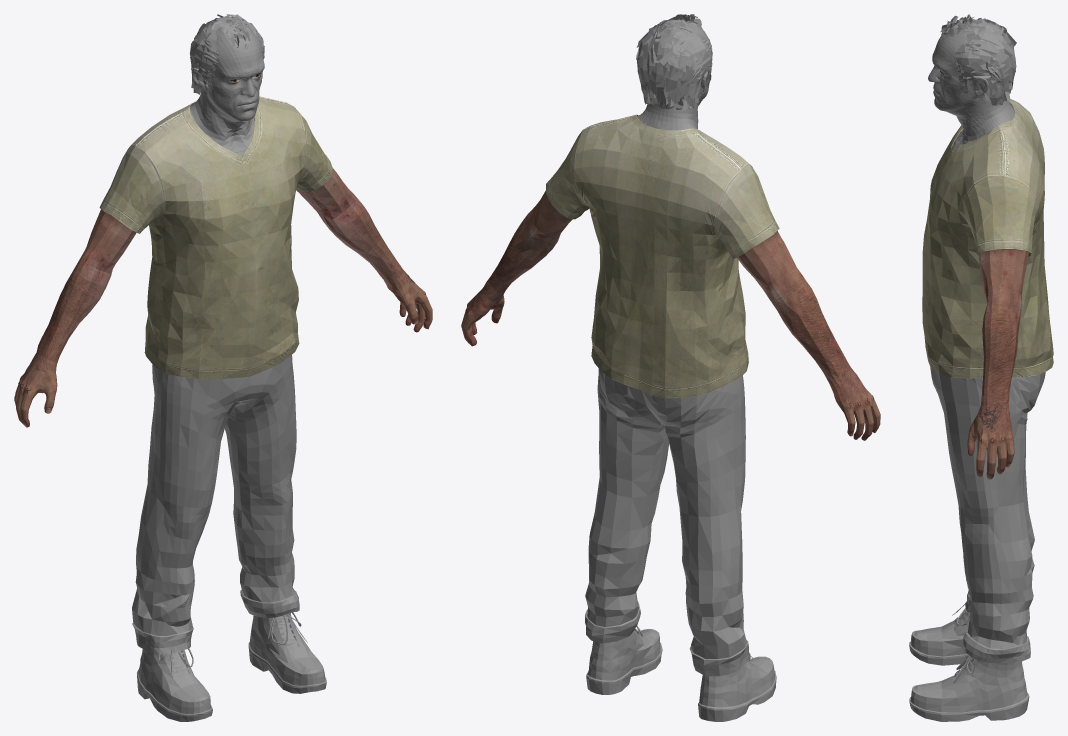
The model's file is trevor.obj.
3 renders of one model, left to right at view 1: azimuth 30°, elevation 25°; view 2: azimuth 150°, elevation 25°; view 3: azimuth 270°, elevation 25°, orthographic.
Parts seen in each view (by area): view 1: uppr_000_u_0_0_0, lowr_000_u_0_0_0, feet_010_u_0_0_0, head_000_r_0_0_0, hand_000_r_0_0_0, hair_003_u_0_0_0; view 2: uppr_000_u_0_0_0, lowr_000_u_0_0_0, feet_010_u_0_0_0, hair_003_u_0_0_0, hand_000_r_0_0_0, head_000_r_0_0_0, hair_003_u_0_0_1; view 3: uppr_000_u_0_0_0, lowr_000_u_0_0_0, feet_010_u_0_0_0, head_000_r_0_0_0, hair_003_u_0_0_0, hand_000_r_0_0_0, hair_003_u_0_0_1.
Part boxes in pixels (x1=…): uppr_000_u_0_0_0: x1=38, y1=96, x2=399, y2=379; lowr_000_u_0_0_0: x1=132, y1=355, x2=299, y2=654; feet_010_u_0_0_0: x1=137, y1=612, x2=326, y2=721; head_000_r_0_0_0: x1=190, y1=25, x2=264, y2=155; hand_000_r_0_0_0: x1=14, y1=265, x2=432, y2=427; hair_003_u_0_0_0: x1=189, y1=14, x2=264, y2=94; uppr_000_u_0_0_0: x1=485, y1=114, x2=847, y2=398; lowr_000_u_0_0_0: x1=585, y1=368, x2=750, y2=676; feet_010_u_0_0_0: x1=586, y1=625, x2=776, y2=721; hair_003_u_0_0_0: x1=636, y1=14, x2=712, y2=110; hand_000_r_0_0_0: x1=461, y1=282, x2=880, y2=440; head_000_r_0_0_0: x1=637, y1=22, x2=712, y2=130; hair_003_u_0_0_1: x1=639, y1=20, x2=712, y2=107; uppr_000_u_0_0_0: x1=922, y1=99, x2=1053, y2=399; lowr_000_u_0_0_0: x1=930, y1=367, x2=1045, y2=662; feet_010_u_0_0_0: x1=909, y1=603, x2=1029, y2=721; head_000_r_0_0_0: x1=928, y1=31, x2=1014, y2=147; hair_003_u_0_0_0: x1=940, y1=14, x2=1016, y2=105; hand_000_r_0_0_0: x1=967, y1=398, x2=1014, y2=479; hair_003_u_0_0_1: x1=940, y1=17, x2=1016, y2=94.
Size of the model in its own units: 1.19 by 1.85 by 0.3631.
